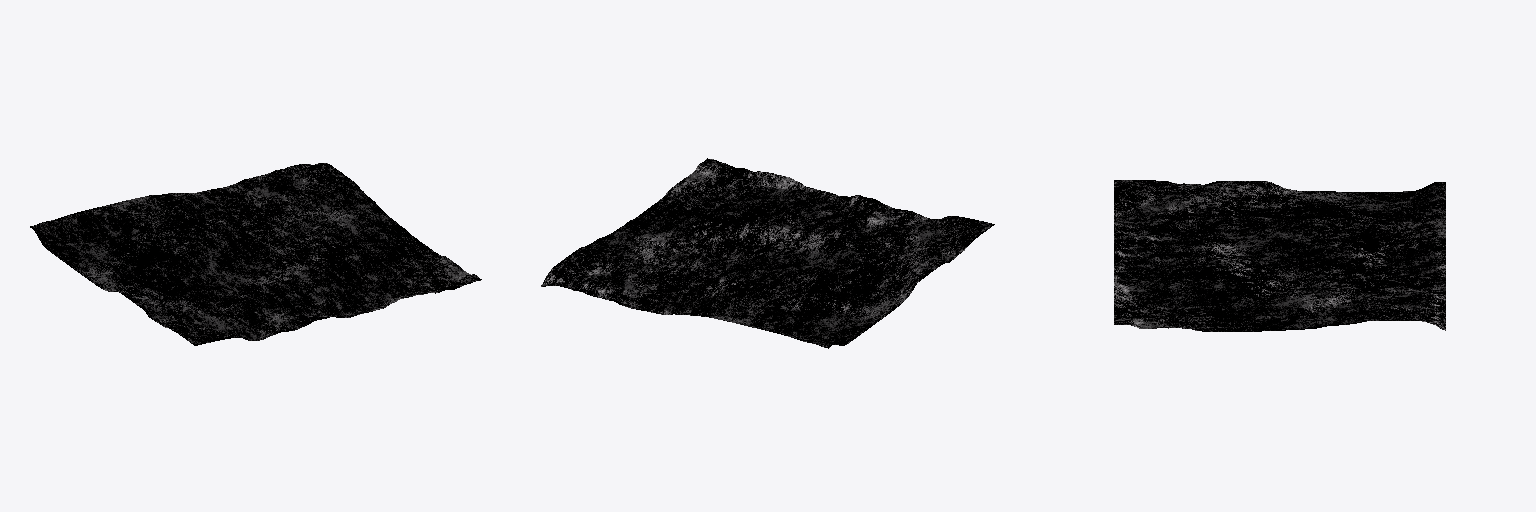
3 renders of one model, left to right at view 1: azimuth 30°, elevation 25°; view 2: azimuth 150°, elevation 25°; view 3: azimuth 270°, elevation 25°, orthographic.
Visible parts, largest first — view 1: Surface; view 2: Surface; view 3: Surface.
Part boxes in pixels (bbox=[...]): Surface: bbox=[30, 163, 481, 345]; Surface: bbox=[541, 158, 994, 348]; Surface: bbox=[1114, 180, 1445, 331].
Bounding box in the file's own units: 40 × 1.59 × 40.
1 materials, 1 textured.